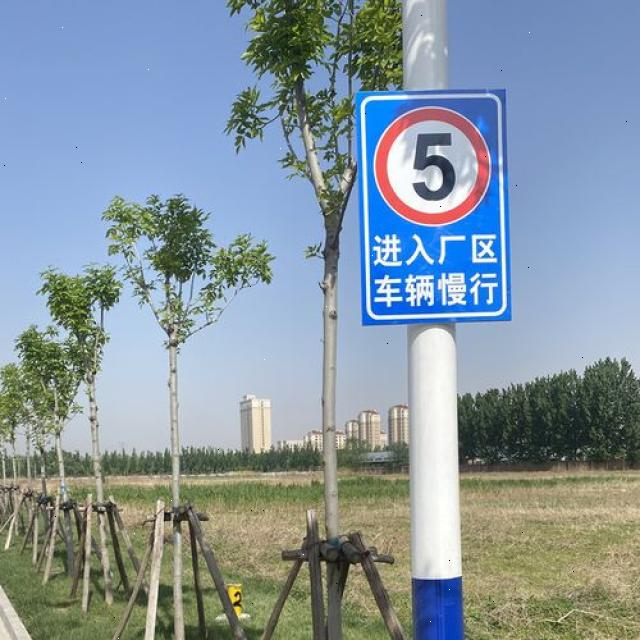speed limit 10: (373, 105, 492, 227)
